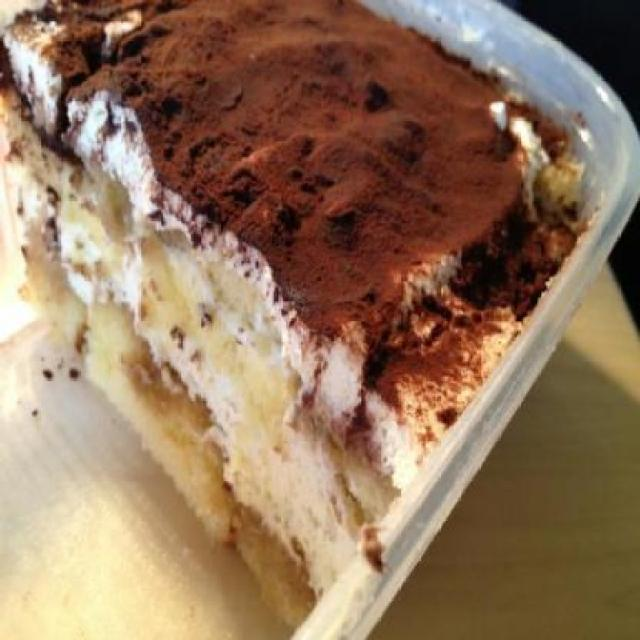Tiramisu: (28, 15, 472, 538)
